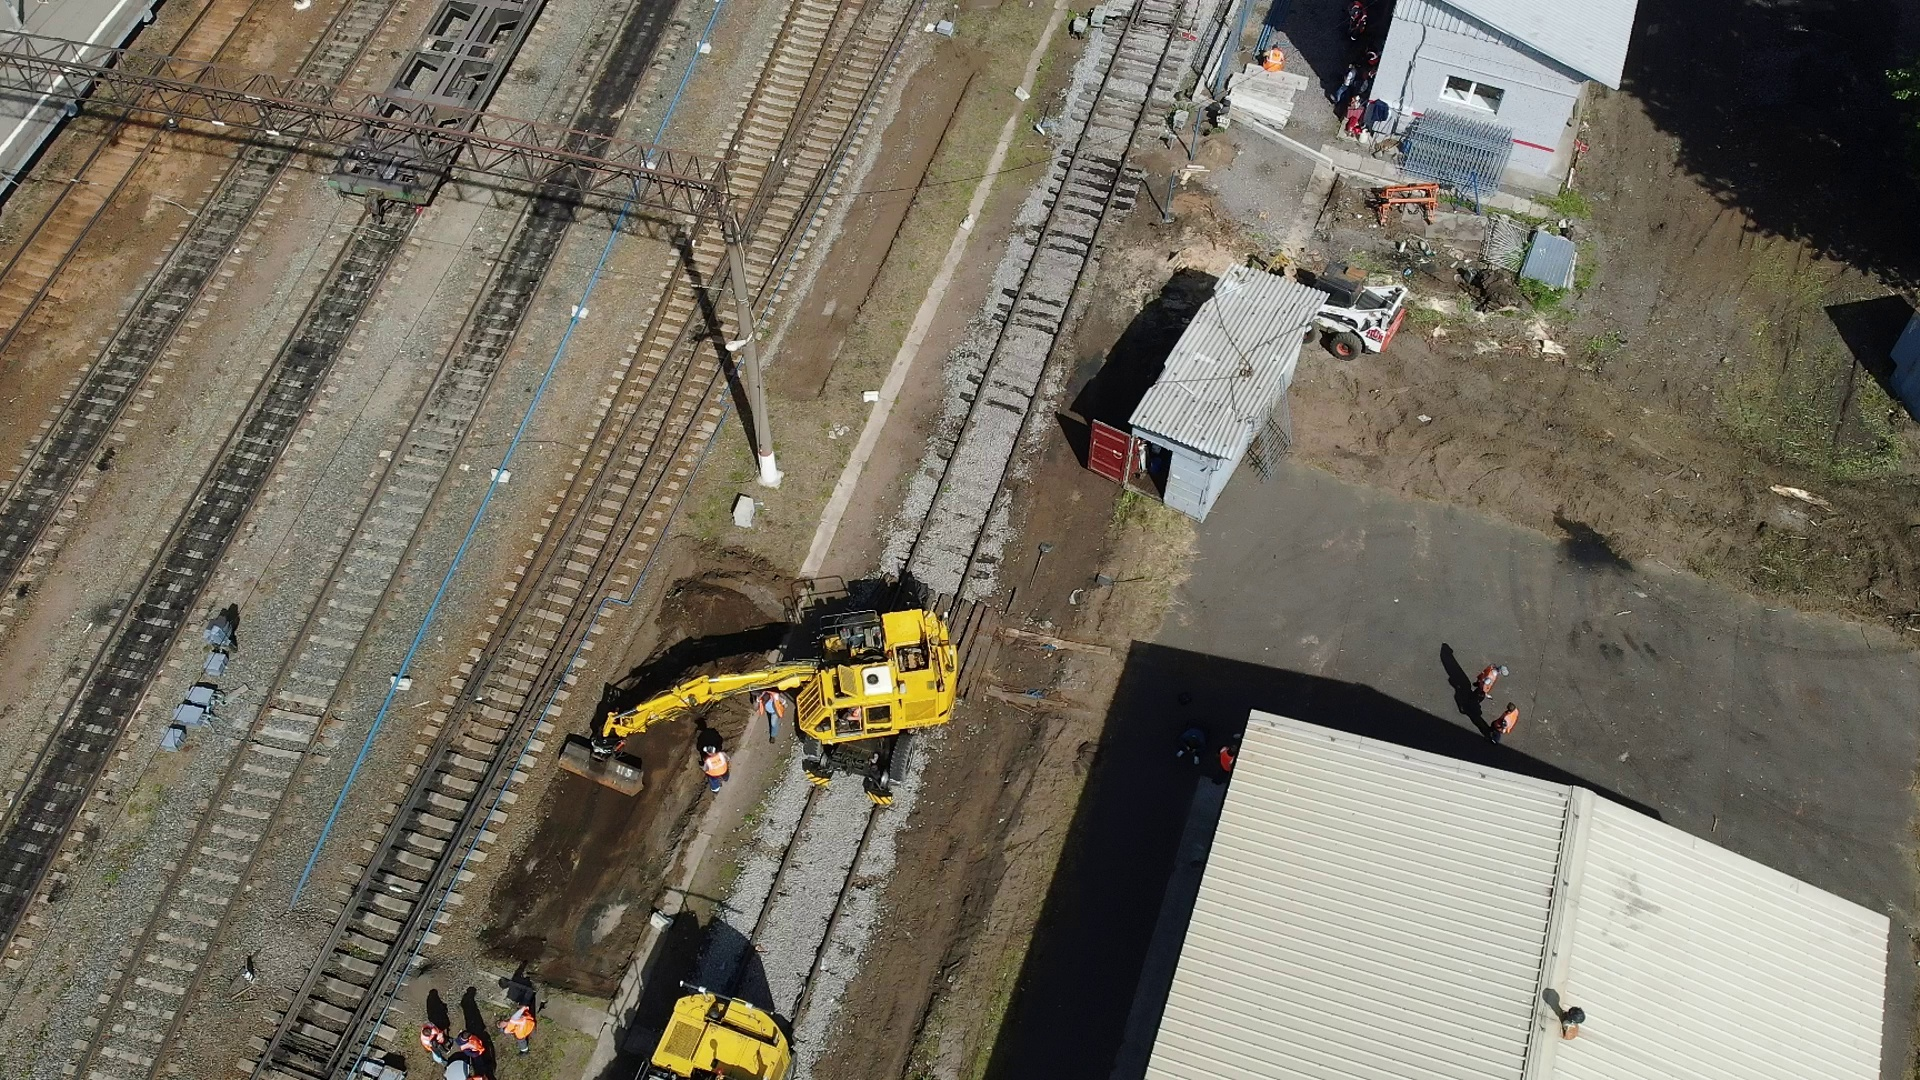kjtv: (727, 609, 963, 793), (632, 980, 793, 1080)
